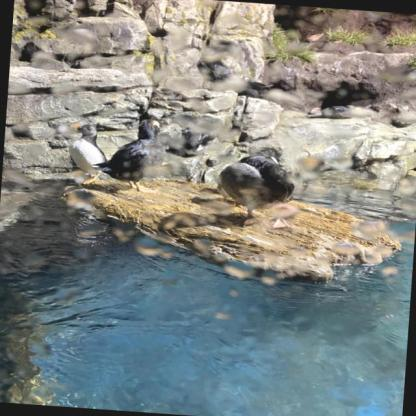puffin: (208, 139, 305, 227), (105, 119, 176, 188), (61, 119, 105, 181)
